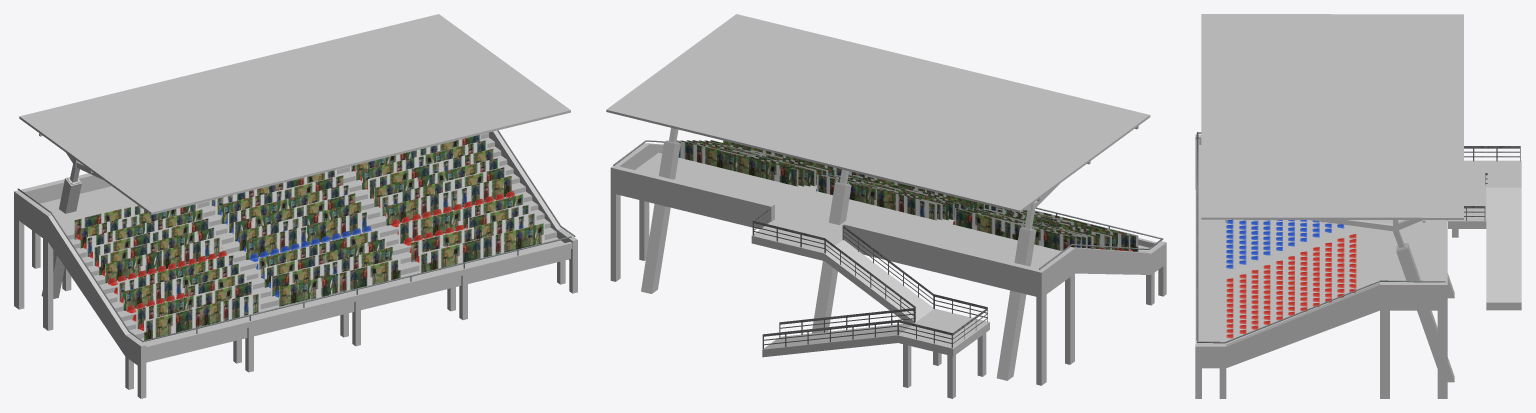
Rendered from Stand-07-m.fbx.
The picture shows the model from 3 angles, left to right: view 1: azimuth 30°, elevation 25°; view 2: azimuth 150°, elevation 25°; view 3: azimuth 270°, elevation 25°; orthographic projection.
Parts seen in each view (by area): view 1: Stand-07-m, Audience; view 2: Stand-07-m, Audience; view 3: Stand-07-m.
Part boxes in pixels (x1,y1,x2,y2): Stand-07-m: (14,14,577,398); Audience: (74,134,544,340); Stand-07-m: (606,14,1166,398); Audience: (676,140,1138,251); Stand-07-m: (1195,14,1521,398).
Bounding box in the file's own units: 4081 × 1648 × 2656.
